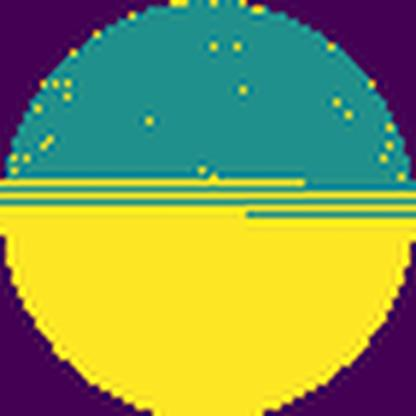Edge-Loc: (0, 178, 416, 416)
